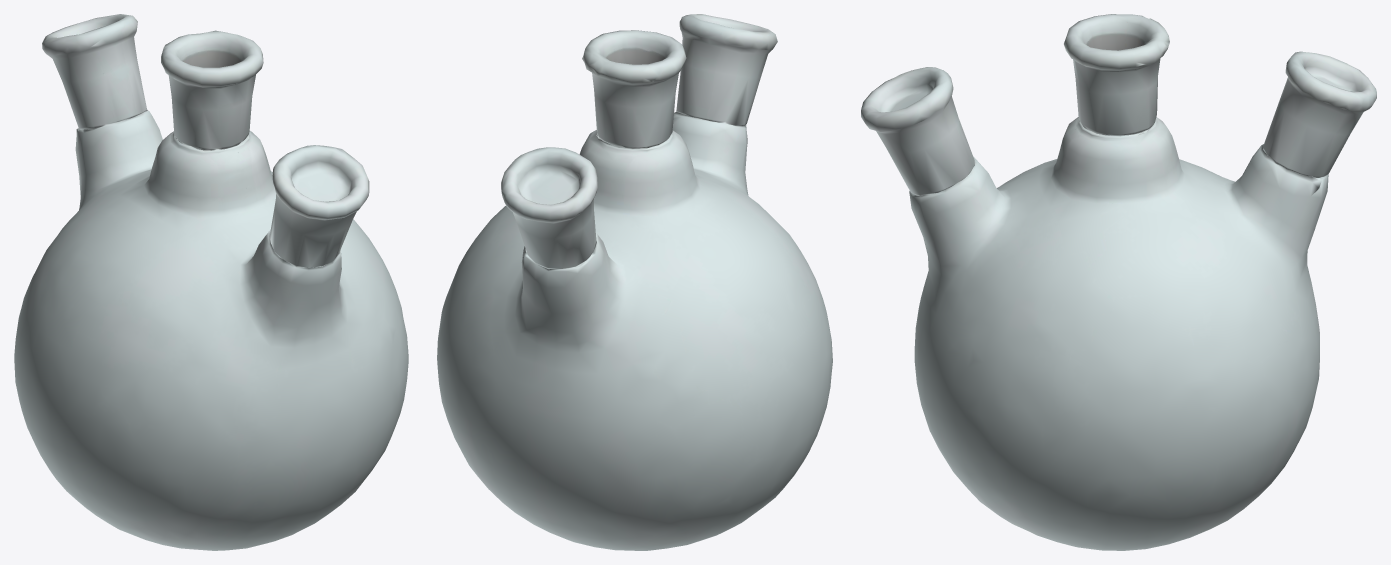
File: round-bottomed_three-necked_flask_1778070123.glb
3 views of the same model, side by side, from view 1: azimuth 30°, elevation 25°; view 2: azimuth 150°, elevation 25°; view 3: azimuth 270°, elevation 25° (orthographic). The views are drawn at different scales.
Visible parts, largest first — view 1: tripo_node_6be7d5c3-0d85-4206-b19a-3c3d2790756d; view 2: tripo_node_6be7d5c3-0d85-4206-b19a-3c3d2790756d; view 3: tripo_node_6be7d5c3-0d85-4206-b19a-3c3d2790756d.
Part boxes in pixels (x1,y1,x2,y2): tripo_node_6be7d5c3-0d85-4206-b19a-3c3d2790756d: (14, 14, 408, 550); tripo_node_6be7d5c3-0d85-4206-b19a-3c3d2790756d: (437, 14, 832, 550); tripo_node_6be7d5c3-0d85-4206-b19a-3c3d2790756d: (861, 14, 1376, 550).
Bounding box in the file's own units: 0.7402 × 0.998 × 0.9395.
Materials: 1 (1 with a texture image).
